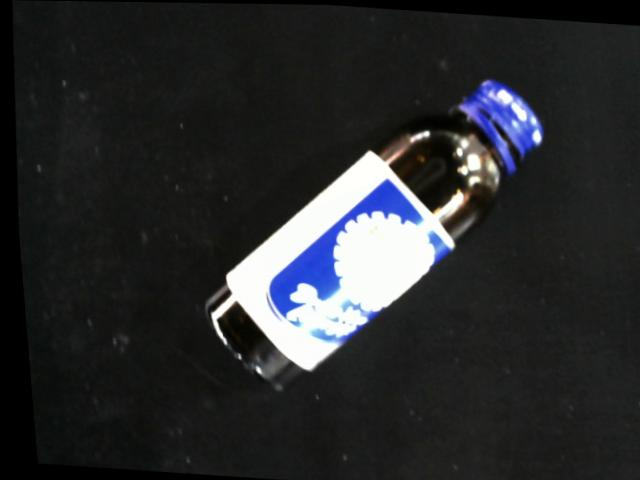glass: (193, 72, 548, 396)
